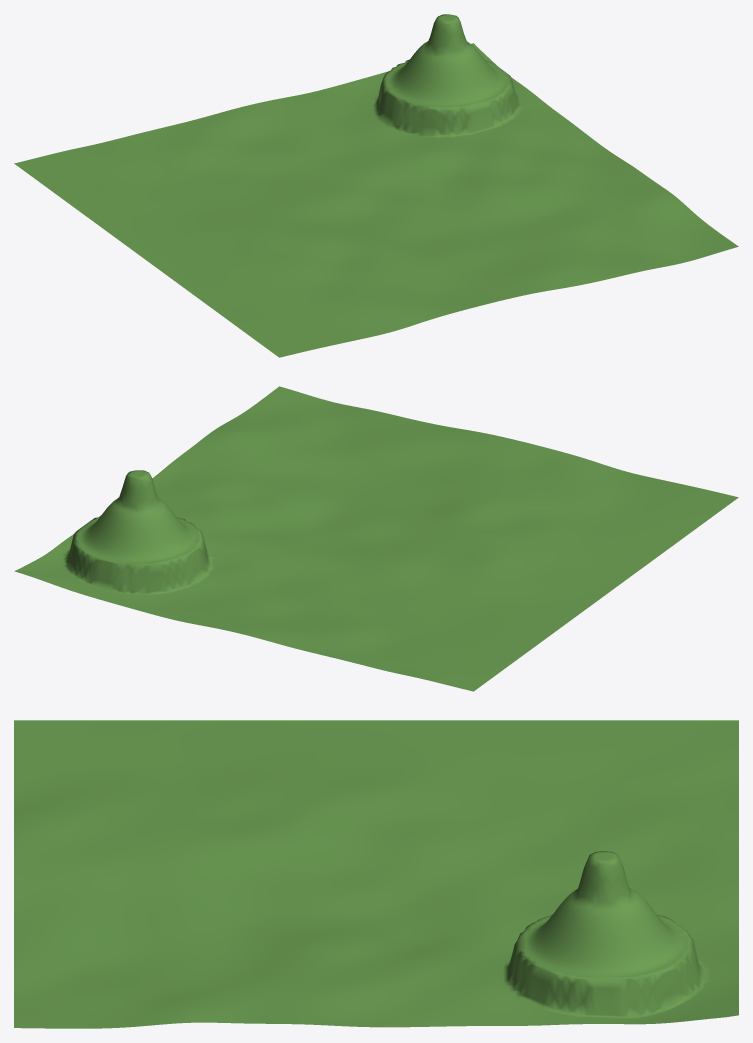
File: SM_Terrain_00_05.fbx
The picture shows the model from 3 angles, top to bottom: view 1: azimuth 30°, elevation 25°; view 2: azimuth 150°, elevation 25°; view 3: azimuth 270°, elevation 25°; orthographic projection. The views are drawn at different scales.
Parts seen in each view (by area): view 1: SM_Terrain_00_05; view 2: SM_Terrain_00_05; view 3: SM_Terrain_00_05.
Part boxes in pixels (left/top/right/bottom): SM_Terrain_00_05: left=14, top=14, right=738, bottom=357; SM_Terrain_00_05: left=14, top=386, right=738, bottom=691; SM_Terrain_00_05: left=14, top=720, right=738, bottom=1028.
Size of the model in its own units: 384 by 73.61 by 384.
